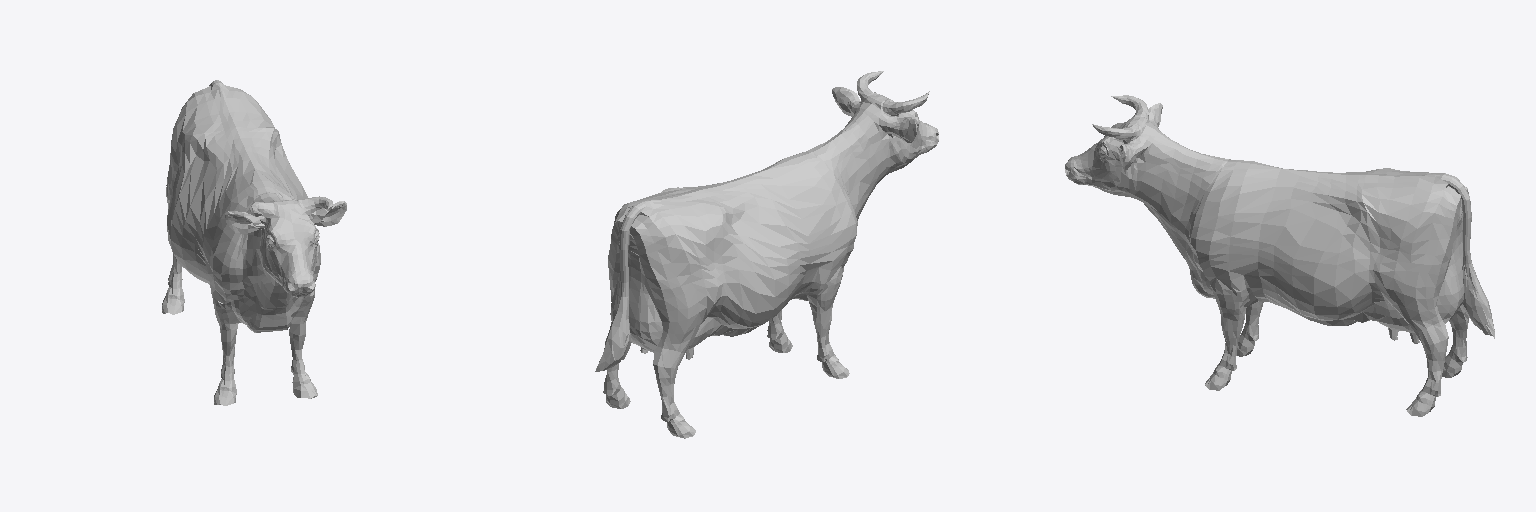
Rendered from cow_fixed.obj.
3 views of the same model, side by side, from view 1: azimuth 30°, elevation 25°; view 2: azimuth 150°, elevation 25°; view 3: azimuth 270°, elevation 25° (orthographic).
Bounding box in the file's own units: 11.58 × 15.02 × 24.03.